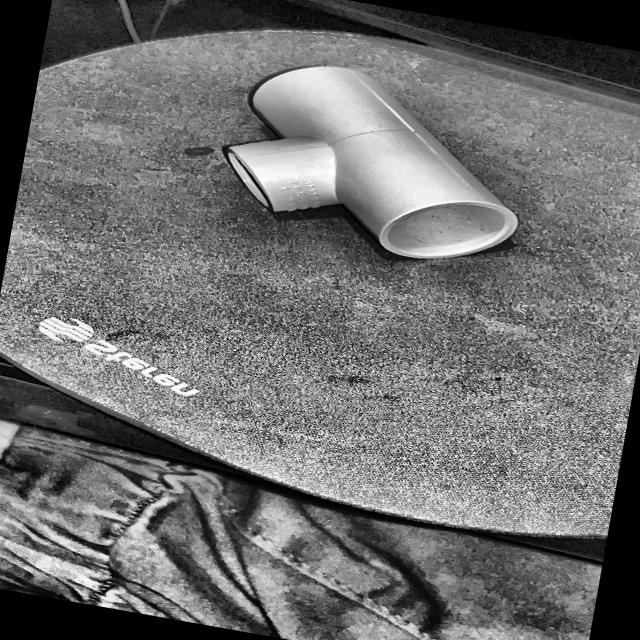EQUALTEE: (223, 66, 518, 260)
